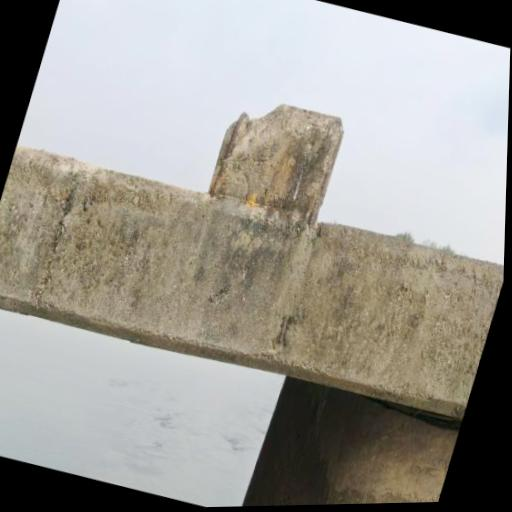exposed_rebar: (223, 112, 247, 161), (307, 173, 326, 228), (210, 162, 223, 197), (277, 317, 287, 343)
